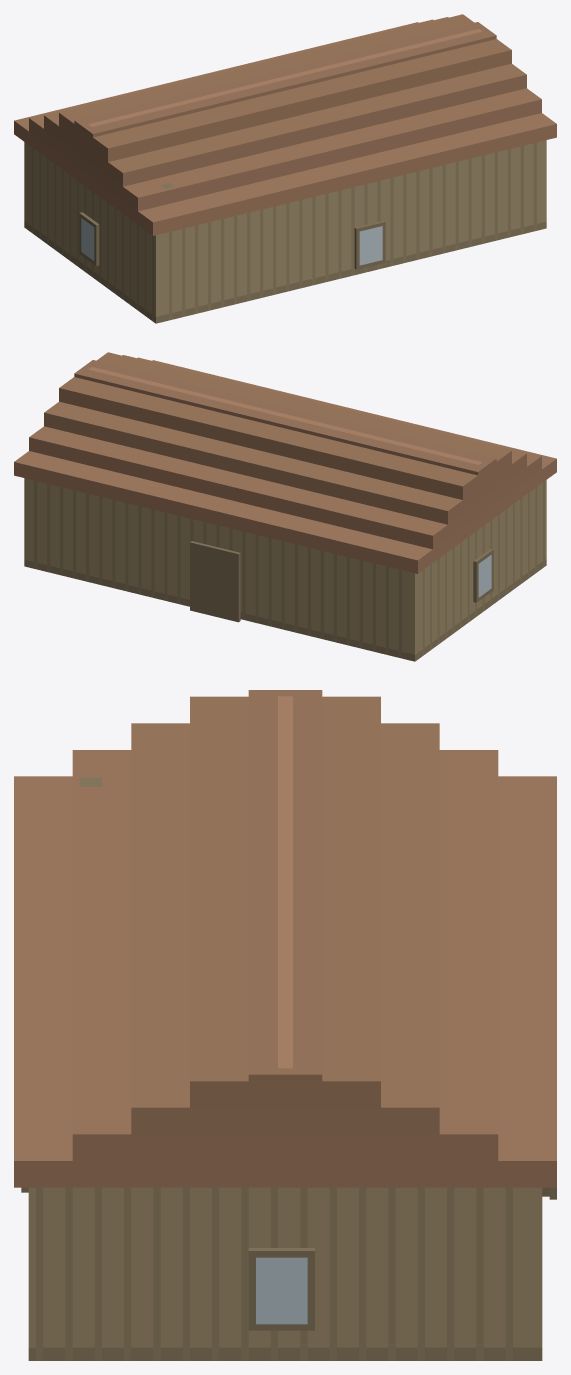
The model's file is peleteria_04.glb.
The picture shows the model from 3 angles, top to bottom: view 1: azimuth 30°, elevation 25°; view 2: azimuth 150°, elevation 25°; view 3: azimuth 270°, elevation 25°; orthographic projection. The views are drawn at different scales.
Visible parts, largest first — view 1: peleteria_04; view 2: peleteria_04; view 3: peleteria_04.
Boxes of the visible parts, <box> form: peleteria_04: <box>14,14,556,323</box>; peleteria_04: <box>14,352,556,661</box>; peleteria_04: <box>14,690,556,1360</box>.
Size of the model in its own units: 12.4 by 4.4 by 7.4.
